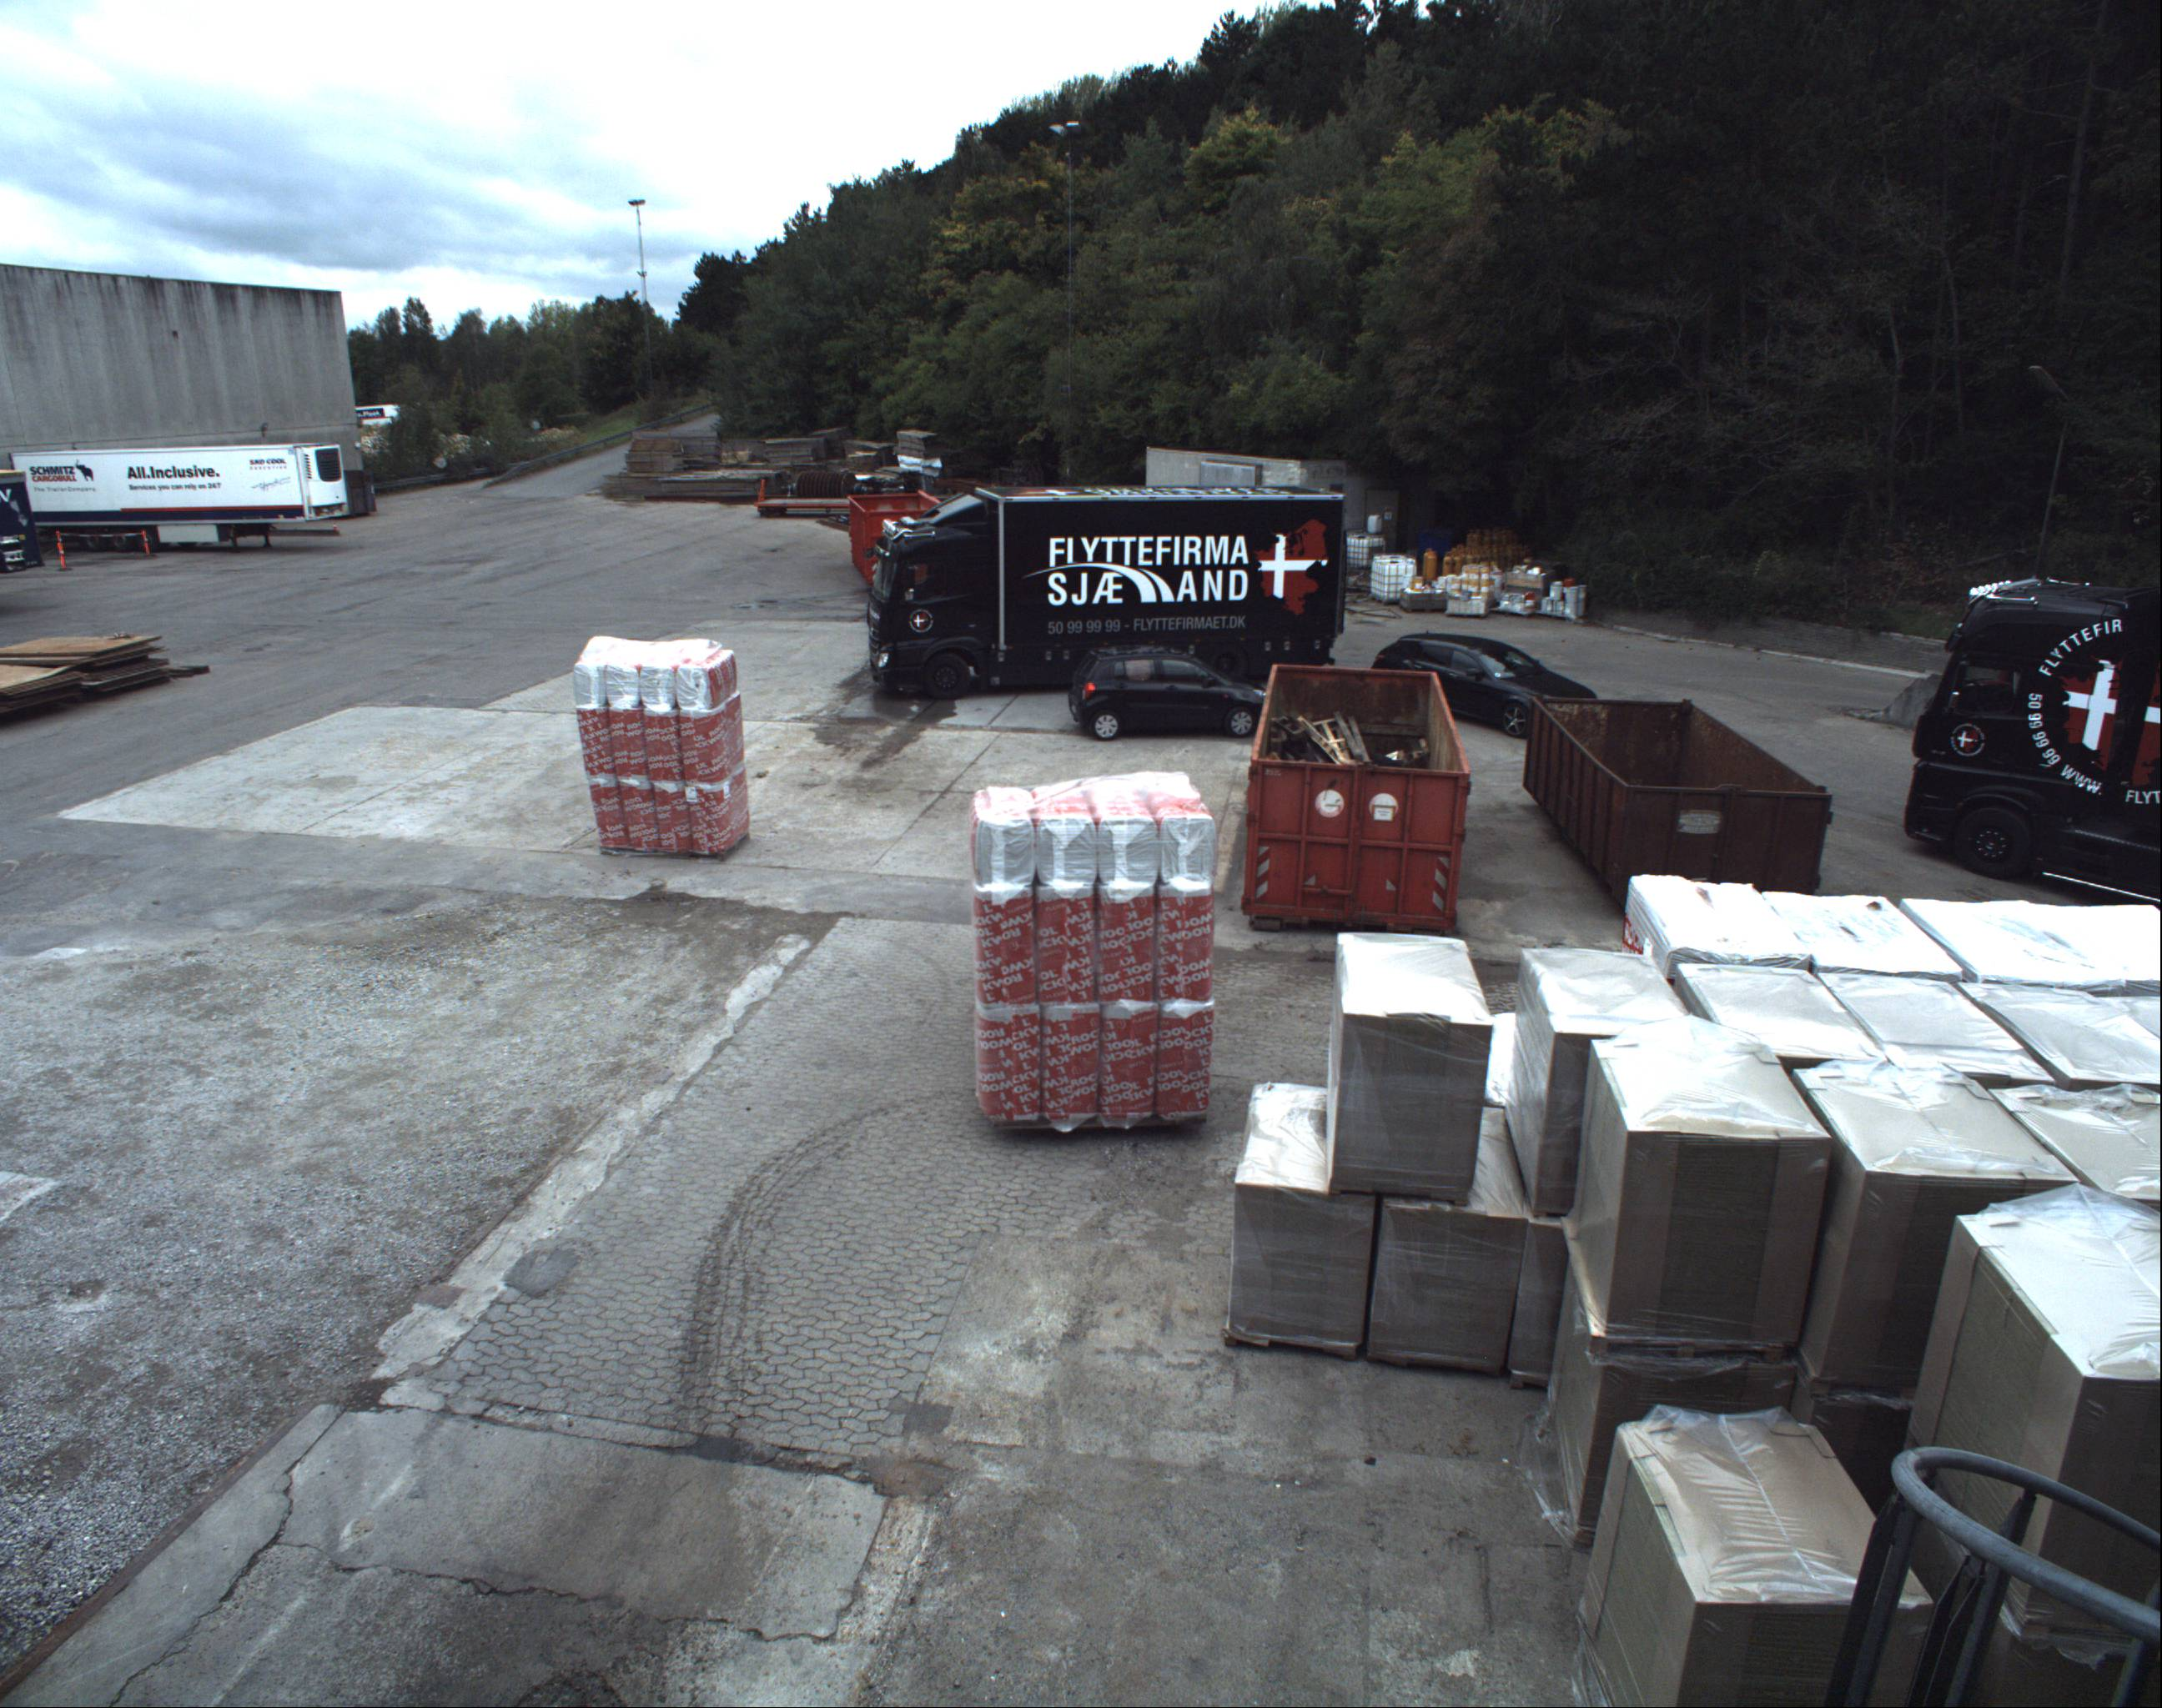rockwool_batts: (970, 779, 1209, 1129), (572, 635, 753, 846)
